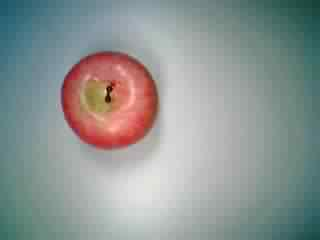apple: (57, 48, 161, 152)
